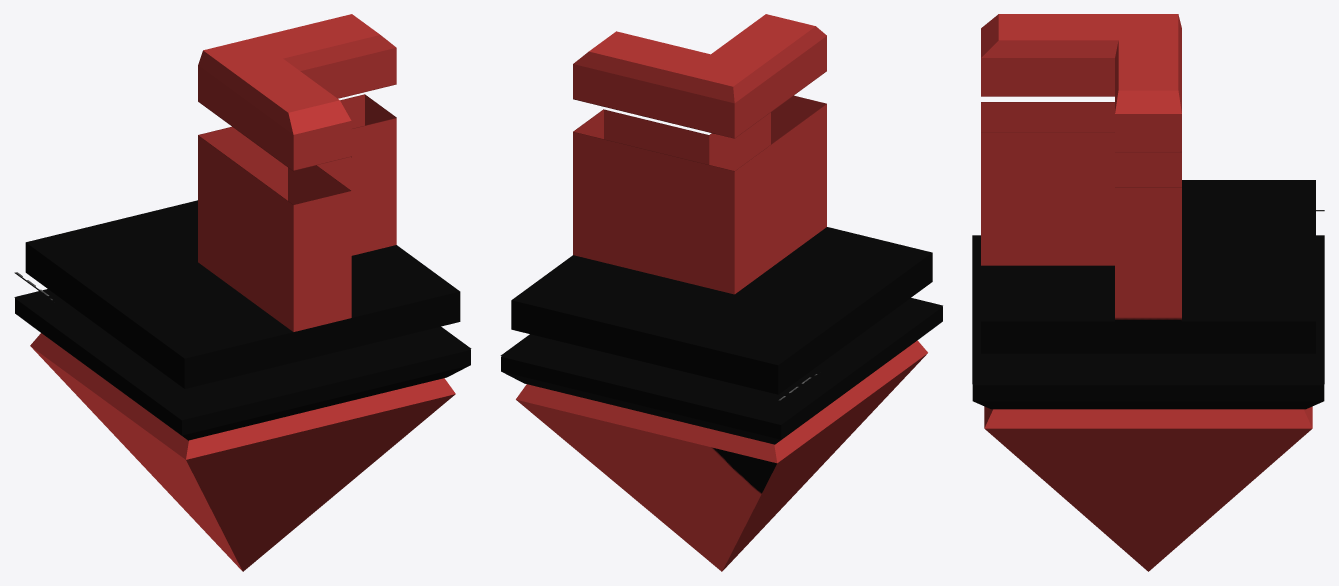
Rendered from wall_tile_turn.fbx.
3 views of the same model, side by side, from view 1: azimuth 30°, elevation 25°; view 2: azimuth 150°, elevation 25°; view 3: azimuth 270°, elevation 25° (orthographic). The views are drawn at different scales.
Visible parts, largest first — view 1: turn; view 2: turn; view 3: turn.
Part boxes in pixels (x1=…): turn: x1=14, y1=14, x2=471, y2=571; turn: x1=500, y1=14, x2=942, y2=571; turn: x1=972, y1=14, x2=1324, y2=571.
Bounding box in the file's own units: 100 × 171 × 100.
